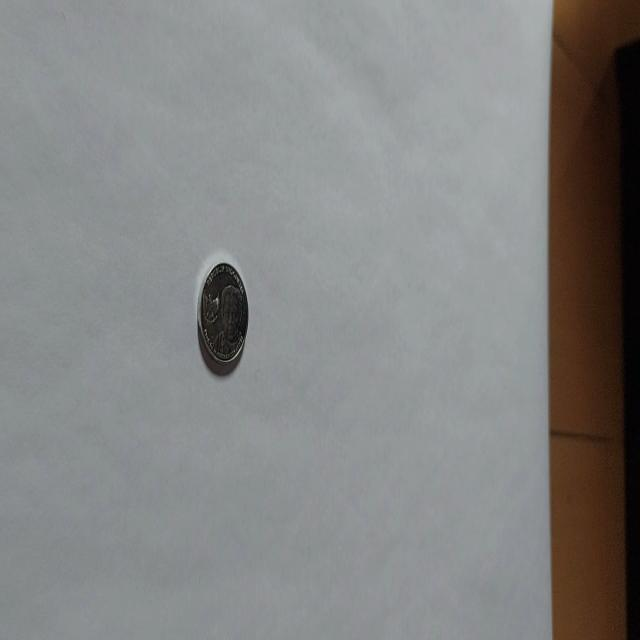seratus rupiah: (196, 260, 248, 376)
